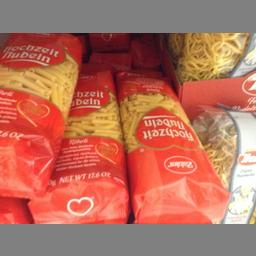pasta: (116, 68, 230, 222), (32, 64, 125, 221), (0, 32, 81, 194)
